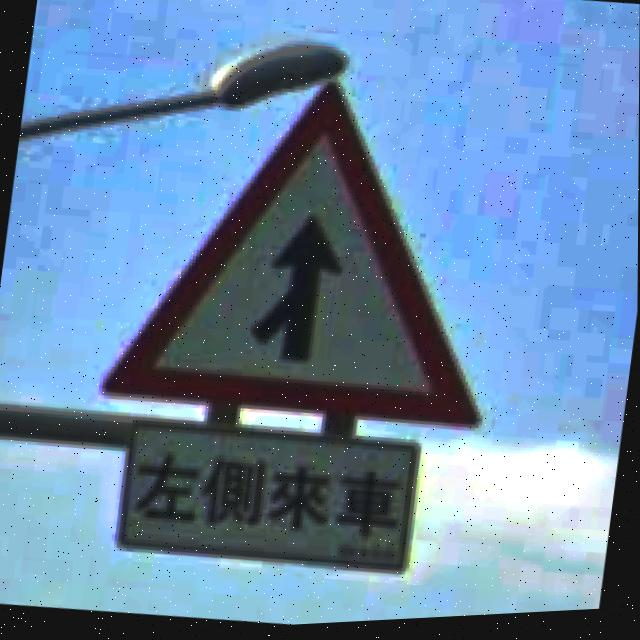leftmerge: (99, 85, 478, 433)
